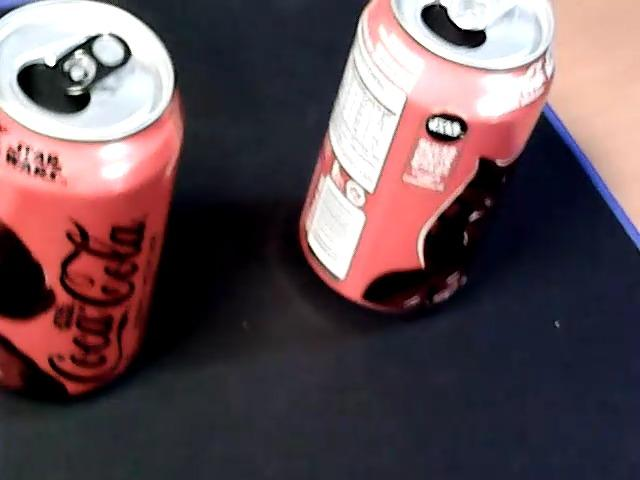coke: (295, 0, 556, 317), (0, 0, 183, 399)
